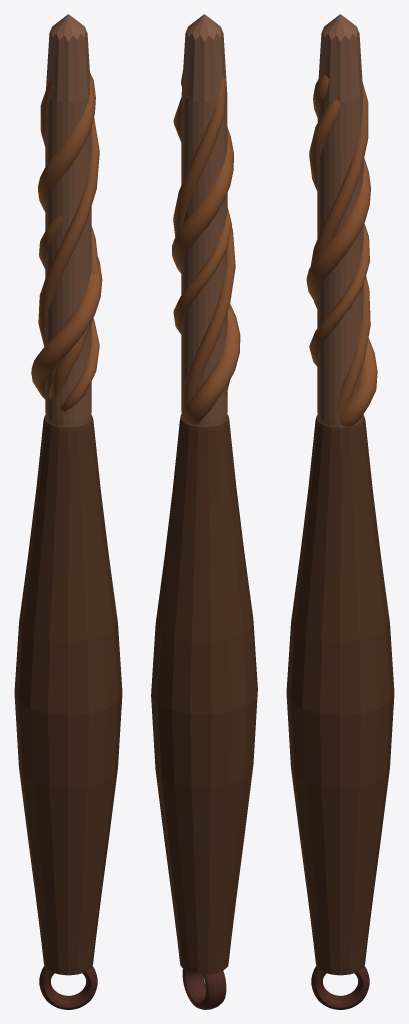
The model's file is Wand 171.glb.
The picture shows the model from 3 angles, left to right: view 1: azimuth 90°, elevation 25°; view 2: azimuth 210°, elevation 25°; view 3: azimuth 270°, elevation 25°; orthographic projection.
Visible parts, largest first — view 1: GeneratedWand; view 2: GeneratedWand; view 3: GeneratedWand.
Boxes of the visible parts, x1,y1,x2,y2 form: GeneratedWand: (14, 14, 122, 1009); GeneratedWand: (151, 14, 257, 1009); GeneratedWand: (286, 14, 394, 1009).
Size of the model in its own units: 0.0499 by 0.5063 by 0.0499.
